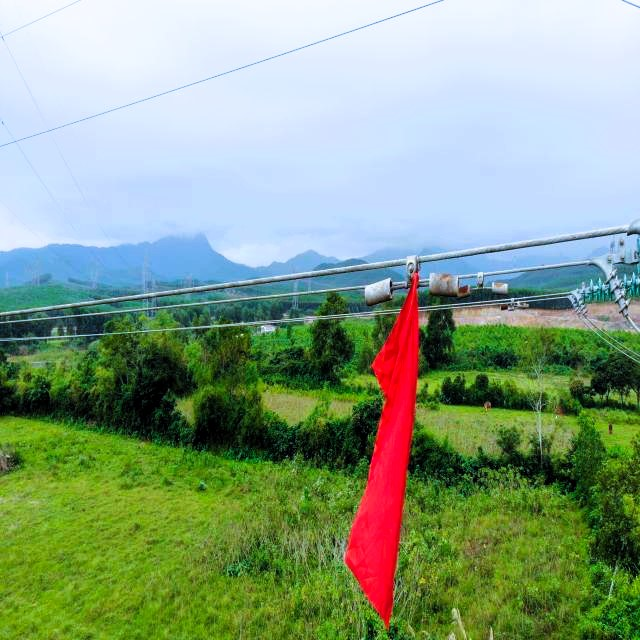wire foreign body: (341, 255, 474, 612)
